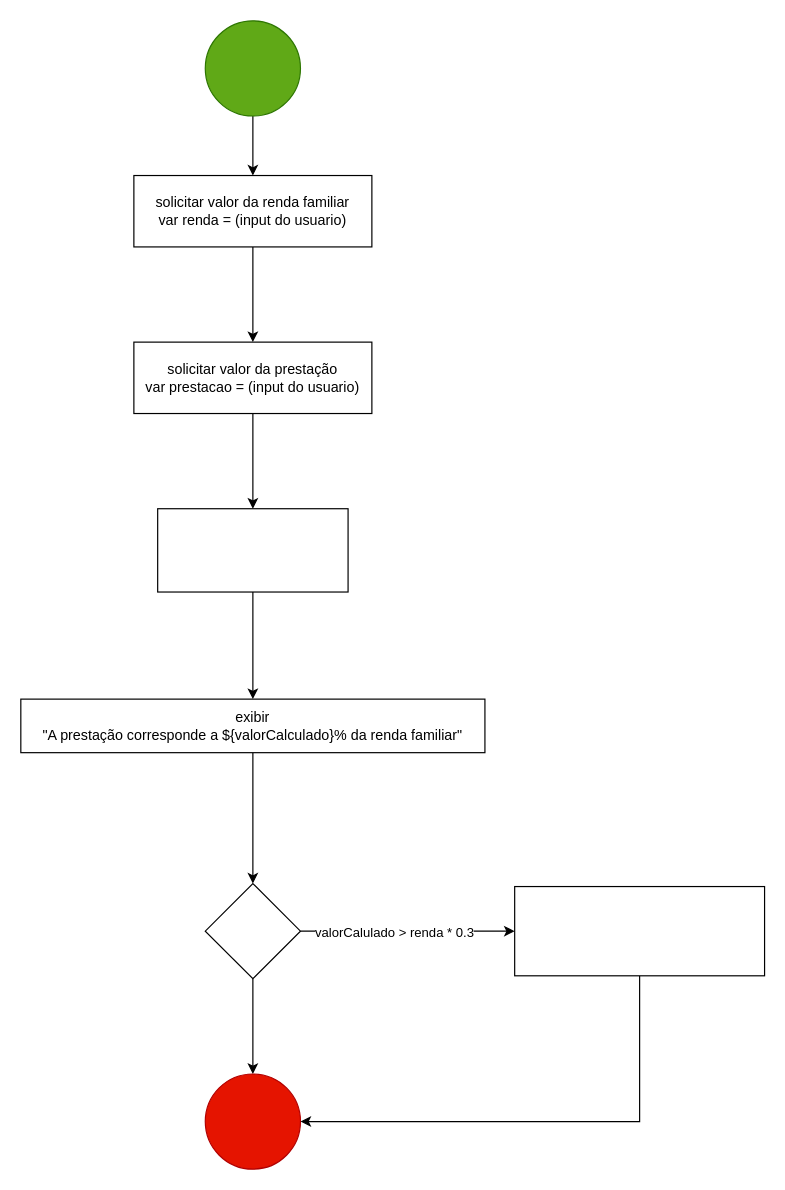
Some shapes in this 785 by 1190 pixel diagram are drawn without their labels. The centre of each missing label's shape, as x and y in pixels:
Exibir "Será necessário complementar a renda familiar: point (639, 930)
var valorCalculado = (prestacao / renda) * 100: point (252, 550)
